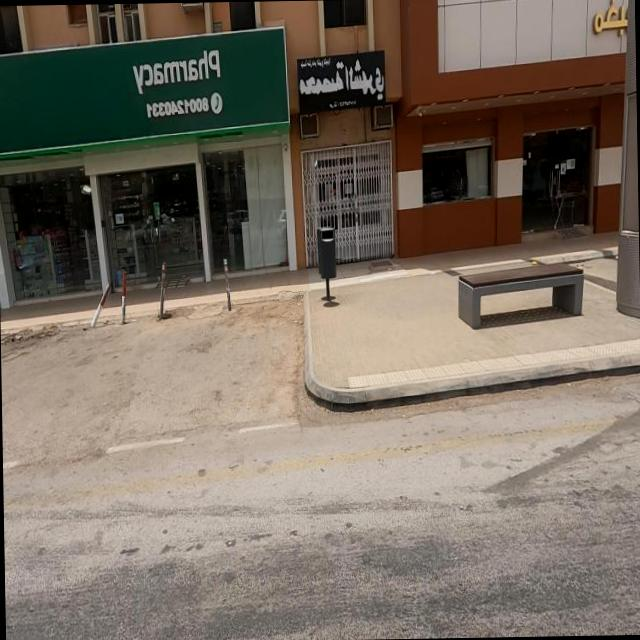debris: (64, 225, 136, 373), (146, 218, 182, 358)
